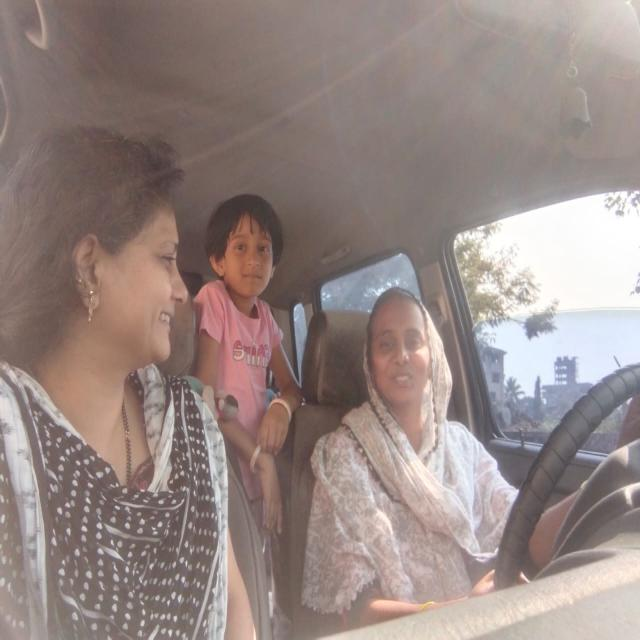LeftRight: (362, 290, 438, 406), (387, 372, 416, 385)
person: (0, 128, 204, 374), (207, 196, 288, 294)
